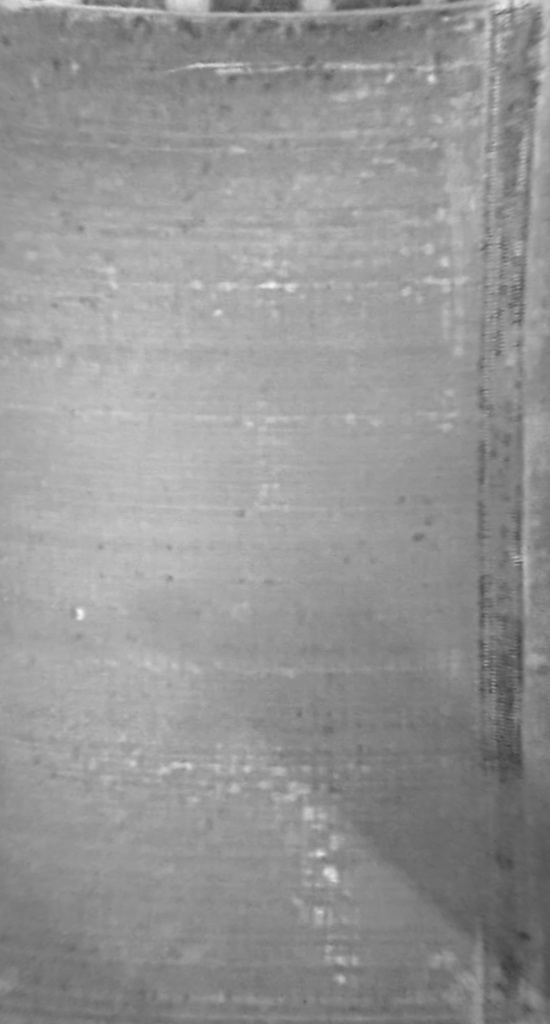splice: (453, 3, 550, 1024)
